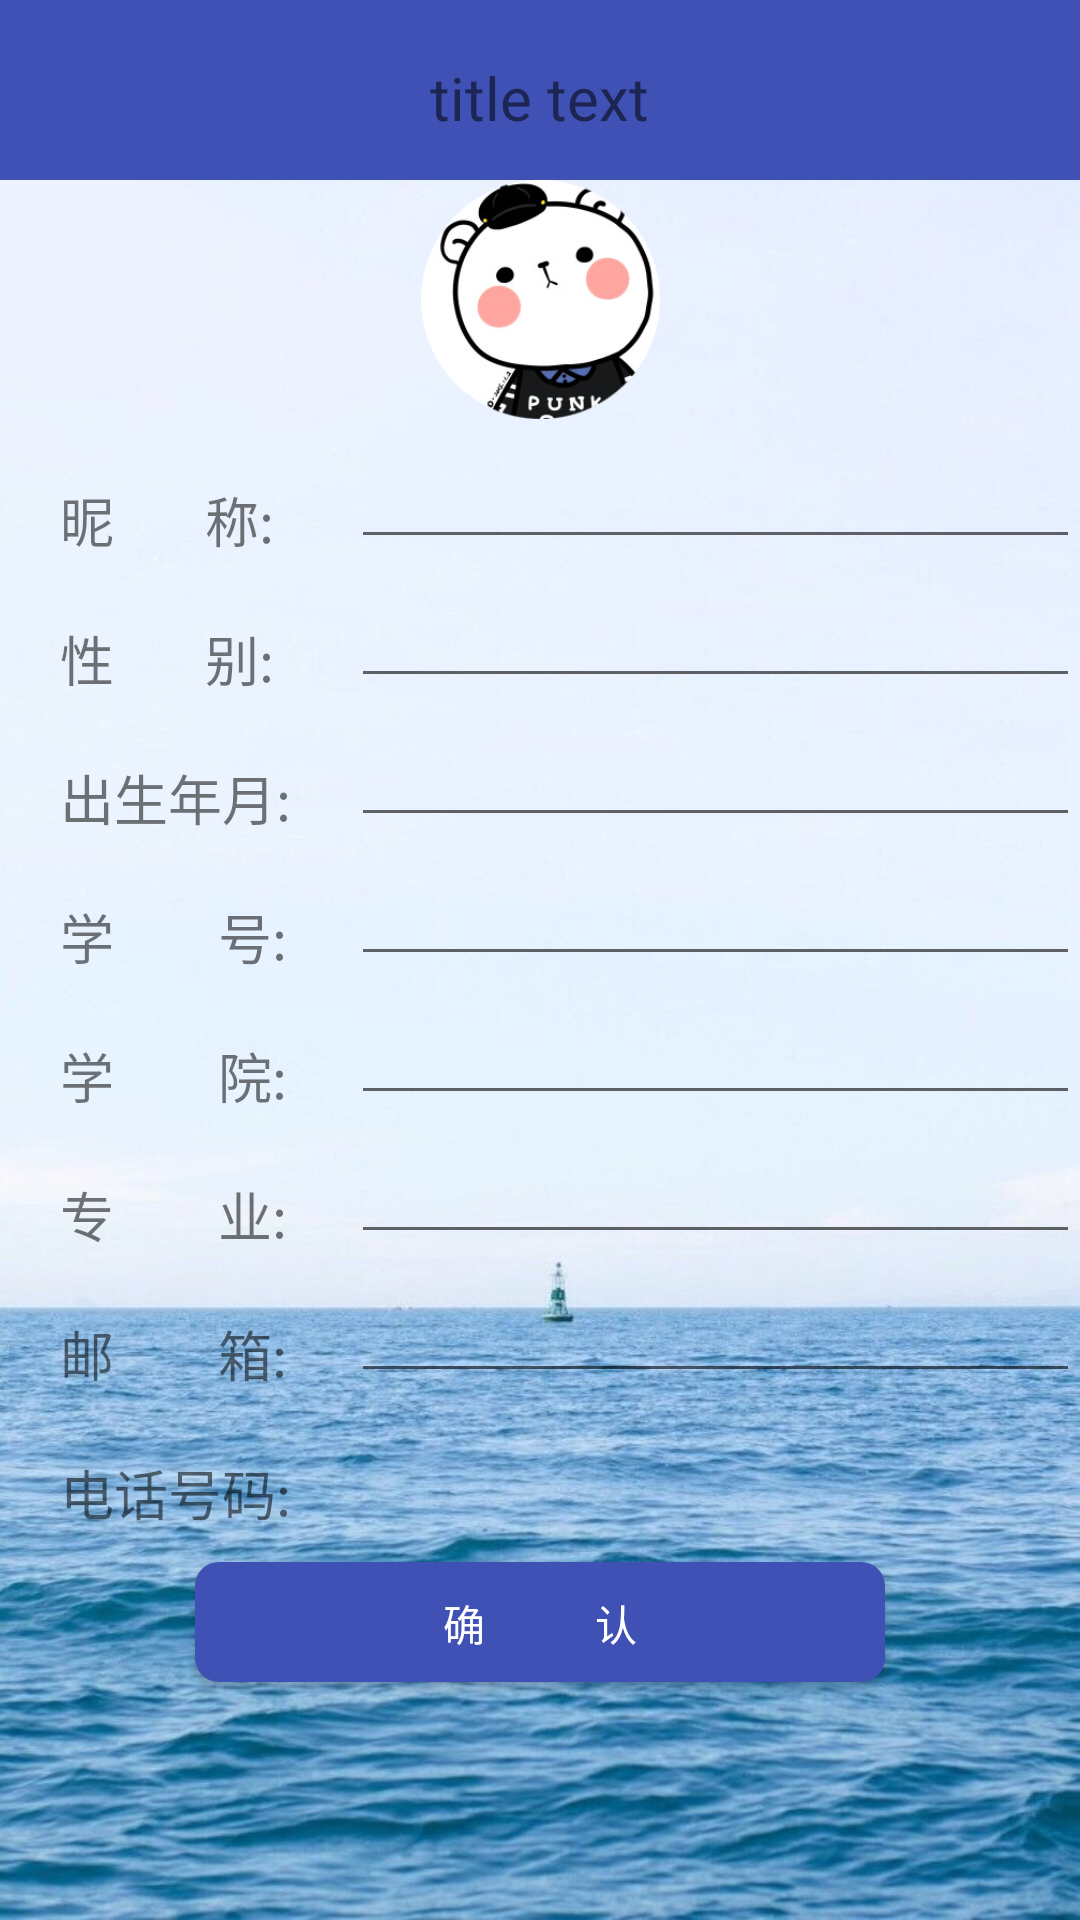

Named icons in this screenshot (1080px x 1920px) and their centers, (x=x, y=y):
head: (x=540, y=299)
